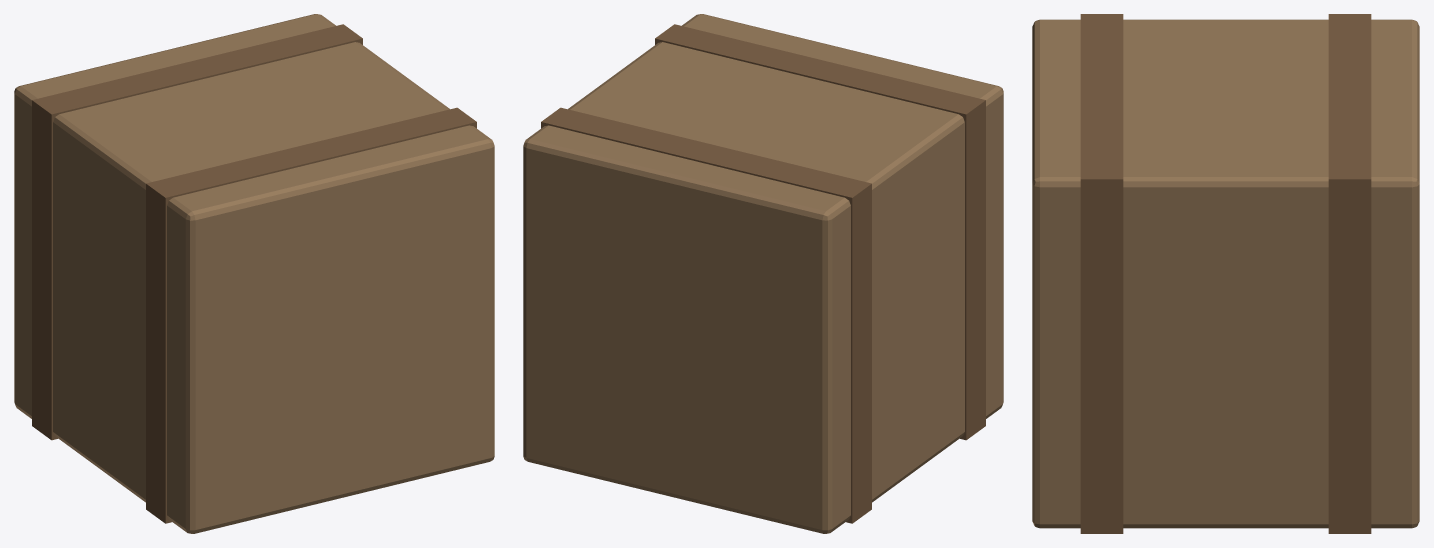
Rendered from block_wood.glb.
The picture shows the model from 3 angles, left to right: view 1: azimuth 30°, elevation 25°; view 2: azimuth 150°, elevation 25°; view 3: azimuth 270°, elevation 25°; orthographic projection. The views are drawn at different scales.
Parts seen in each view (by area): view 1: BlockWood, BW_Band1, BW_Band2; view 2: BlockWood, BW_Band1, BW_Band2; view 3: BlockWood, BW_Band1, BW_Band2.
Boxes of the visible parts, bbox=[...] form: BlockWood: bbox=[14, 14, 494, 533]; BW_Band1: bbox=[32, 24, 362, 440]; BW_Band2: bbox=[146, 107, 476, 523]; BlockWood: bbox=[523, 14, 1003, 533]; BW_Band1: bbox=[541, 107, 871, 523]; BW_Band2: bbox=[655, 24, 985, 440]; BlockWood: bbox=[1032, 19, 1419, 528]; BW_Band1: bbox=[1328, 14, 1371, 533]; BW_Band2: bbox=[1080, 14, 1123, 533].
Bounding box in the file's own units: 0.505 × 0.505 × 0.5.
